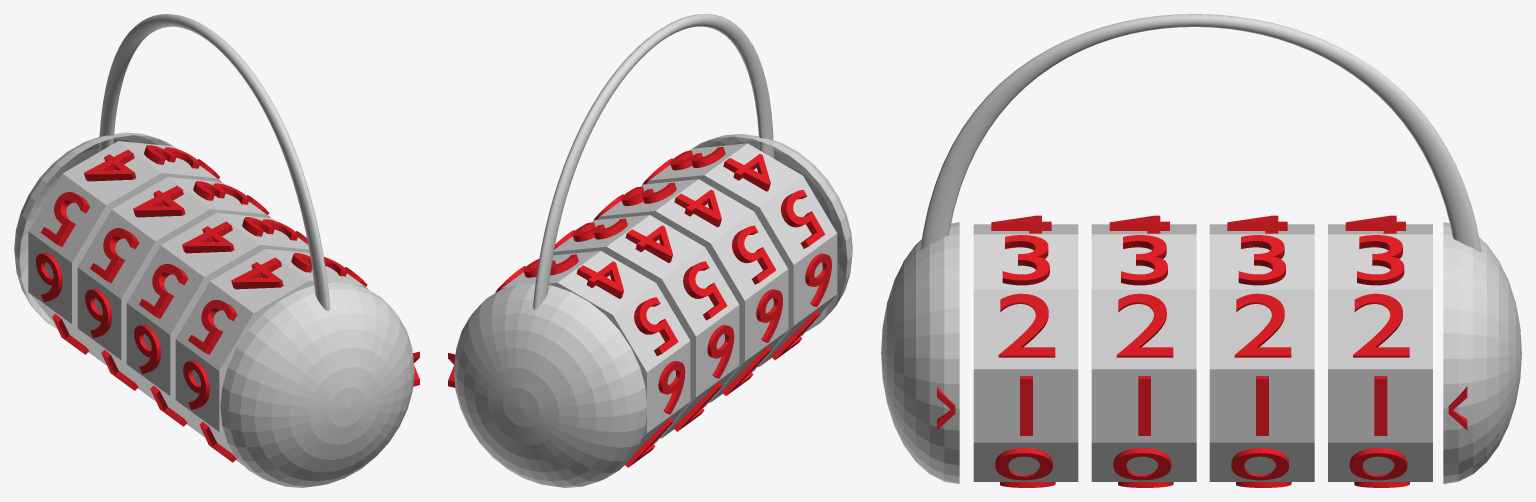
The model's file is lock.fbx.
The picture shows the model from 3 angles, left to right: view 1: azimuth 30°, elevation 25°; view 2: azimuth 150°, elevation 25°; view 3: azimuth 270°, elevation 25°; orthographic projection. The views are drawn at different scales.
Parts seen in each view (by area): view 1: Sphere, Cylinder.004, Cylinder.003, Cylinder.002, Cylinder.001, NurbsPath, Sphere.001, Text.035, Text.036, Text.026, Text.003, Text.025 (+11 smaller); view 2: Sphere.001, Cylinder.001, Cylinder.003, Cylinder.002, Cylinder.004, NurbsPath, Sphere, Text.035, Text.025, Text.004, Text.015, Text.003 (+15 smaller); view 3: Cylinder.002, Cylinder.001, Cylinder.003, Cylinder.004, Sphere, Sphere.001, NurbsPath, Text.001, Text.028, Text.018, Text.038, Text.002 (+15 smaller).
Boxes of the visible parts, bbox=[...] form: Sphere: bbox=[220, 282, 414, 487]; Cylinder.004: bbox=[28, 141, 219, 365]; Cylinder.003: bbox=[77, 177, 269, 401]; Cylinder.002: bbox=[126, 213, 309, 437]; Cylinder.001: bbox=[175, 249, 366, 465]; NurbsPath: bbox=[98, 14, 330, 311]; Sphere.001: bbox=[14, 132, 178, 329]; Text.035: bbox=[40, 192, 89, 246]; Text.036: bbox=[84, 150, 136, 181]; Text.026: bbox=[133, 185, 185, 217]; Text.003: bbox=[231, 257, 283, 289]; Text.025: bbox=[90, 228, 139, 283]; Sphere.001: bbox=[454, 283, 647, 487]; Cylinder.001: bbox=[646, 143, 837, 366]; Cylinder.003: bbox=[553, 215, 739, 438]; Cylinder.002: bbox=[597, 179, 788, 402]; Cylinder.004: bbox=[501, 251, 690, 465]; NurbsPath: bbox=[533, 14, 773, 309]; Sphere: bbox=[689, 134, 852, 332]; Text.035: bbox=[634, 297, 678, 356]; Text.025: bbox=[683, 261, 727, 320]; Text.004: bbox=[781, 190, 825, 248]; Text.015: bbox=[732, 225, 775, 284]; Text.003: bbox=[723, 154, 770, 191]; Cylinder.002: bbox=[1091, 224, 1196, 481]; Cylinder.001: bbox=[973, 224, 1078, 481]; Cylinder.003: bbox=[1209, 224, 1314, 481]; Cylinder.004: bbox=[1328, 224, 1432, 481]; Sphere: bbox=[881, 222, 959, 483]; Sphere.001: bbox=[1443, 222, 1521, 483]; NurbsPath: bbox=[920, 14, 1481, 252]; Text.001: bbox=[998, 293, 1055, 357]; Text.028: bbox=[1234, 293, 1291, 357]; Text.018: bbox=[1116, 293, 1173, 357]; Text.038: bbox=[1353, 293, 1409, 357]; Text.002: bbox=[1002, 235, 1049, 285].
Size of the model in its own units: 201 by 386 by 489.
